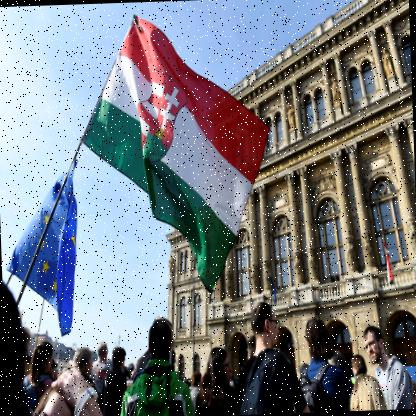hu: (78, 3, 277, 298)
